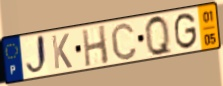C: (109, 21, 139, 62)
G: (174, 11, 199, 51)
H: (80, 24, 111, 69)
J: (25, 32, 50, 78)
K: (50, 32, 74, 71)
Q: (143, 14, 174, 58)
